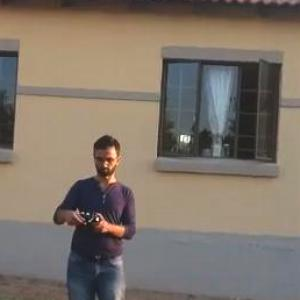follow: (48, 125, 142, 299)
